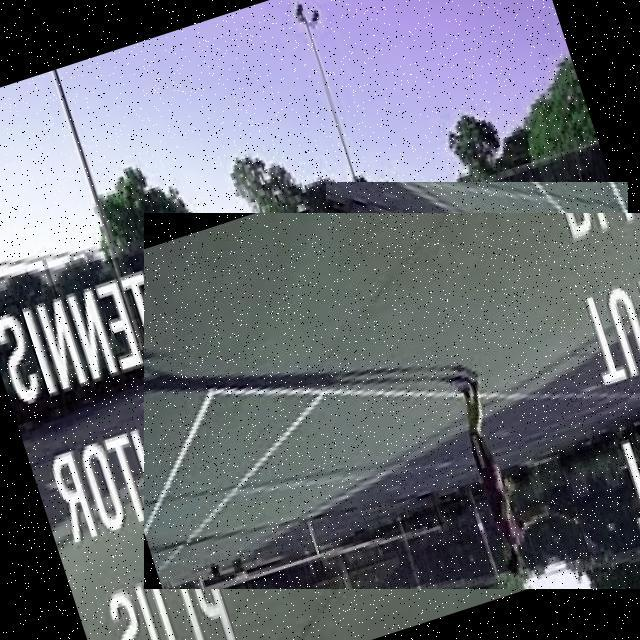court: (144, 213, 640, 589)
net: (326, 182, 628, 327)
player: (188, 220, 344, 457)
